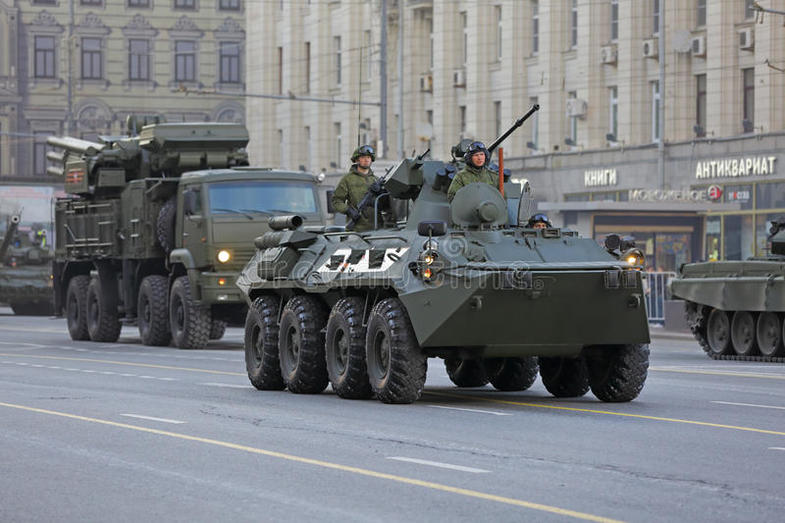btr: (247, 190, 656, 412)
